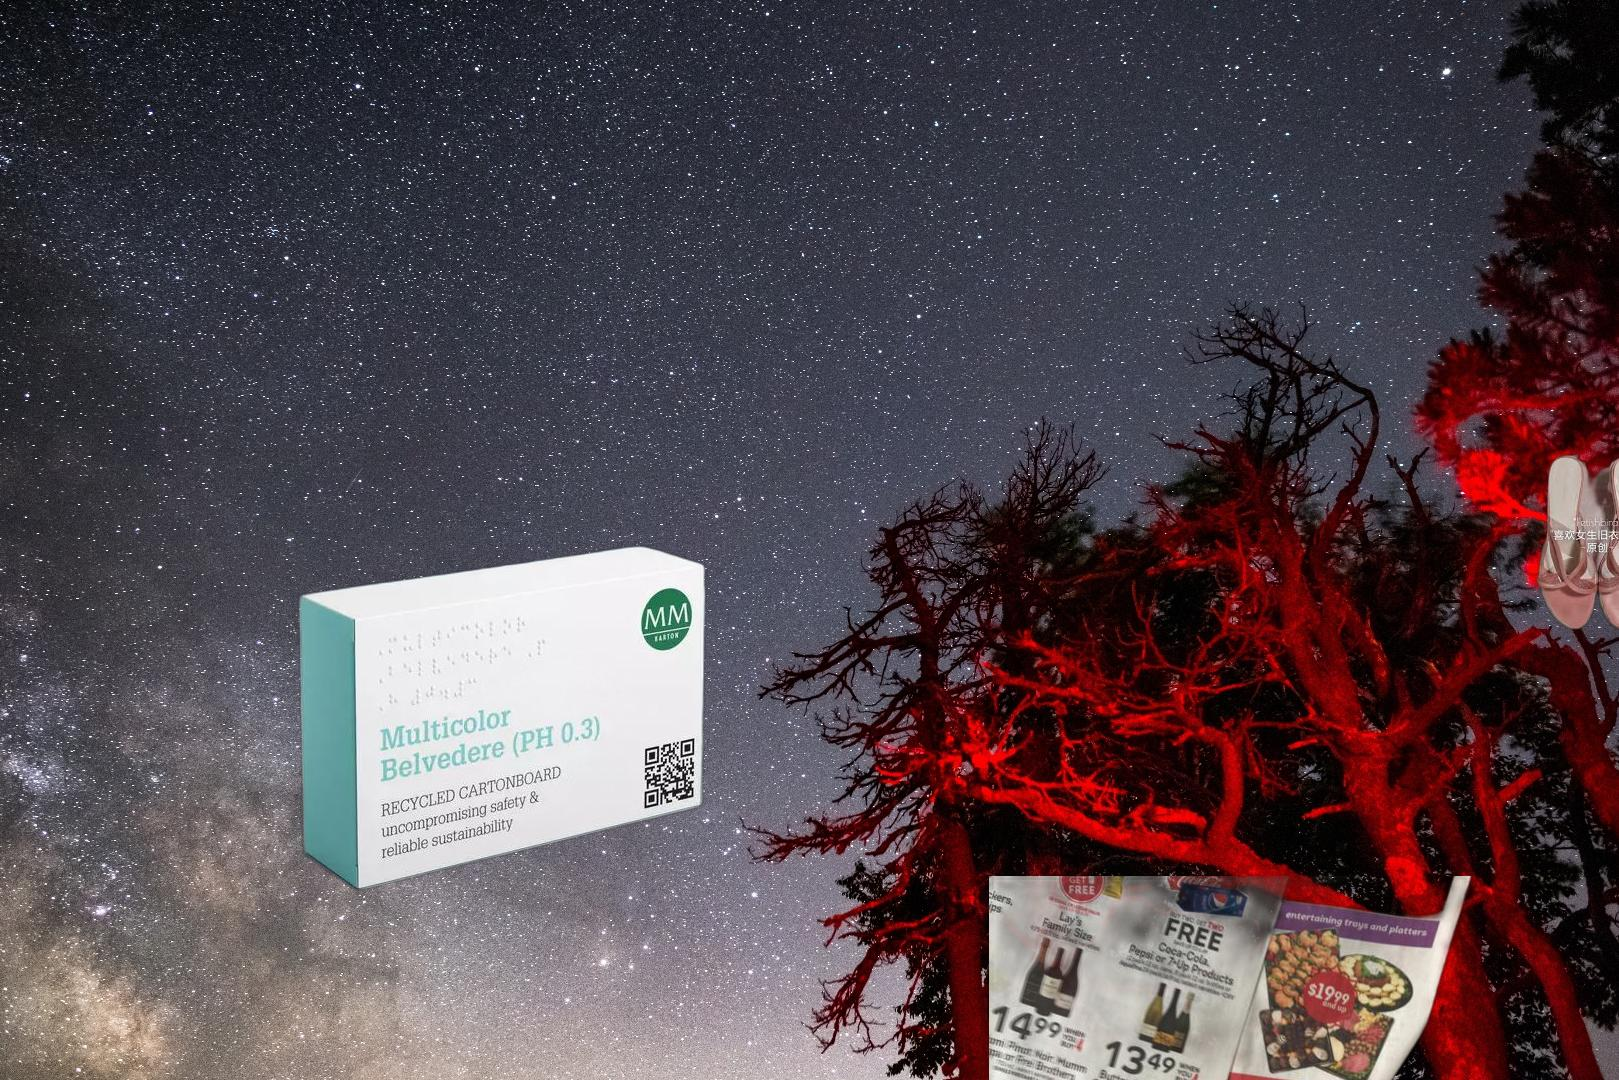paper: (989, 876, 1501, 1080)
shoes: (1531, 452, 1619, 632)
trashbox-cardboard: (294, 541, 712, 894)
